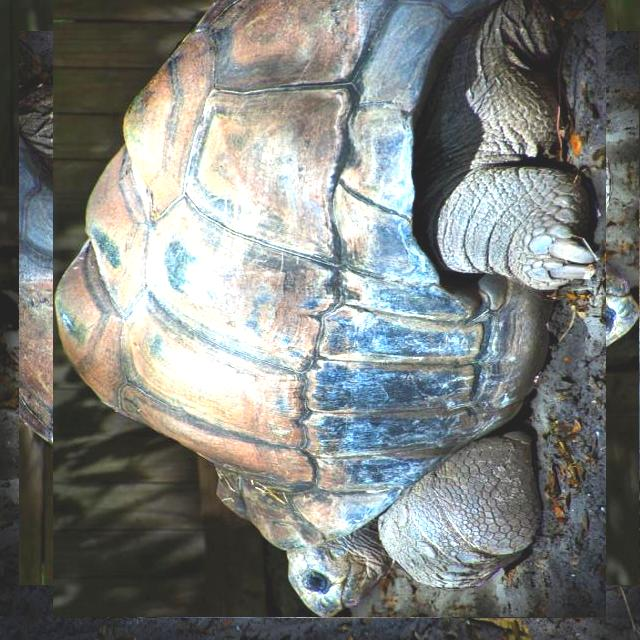Sea turtle: (36, 14, 623, 602)
